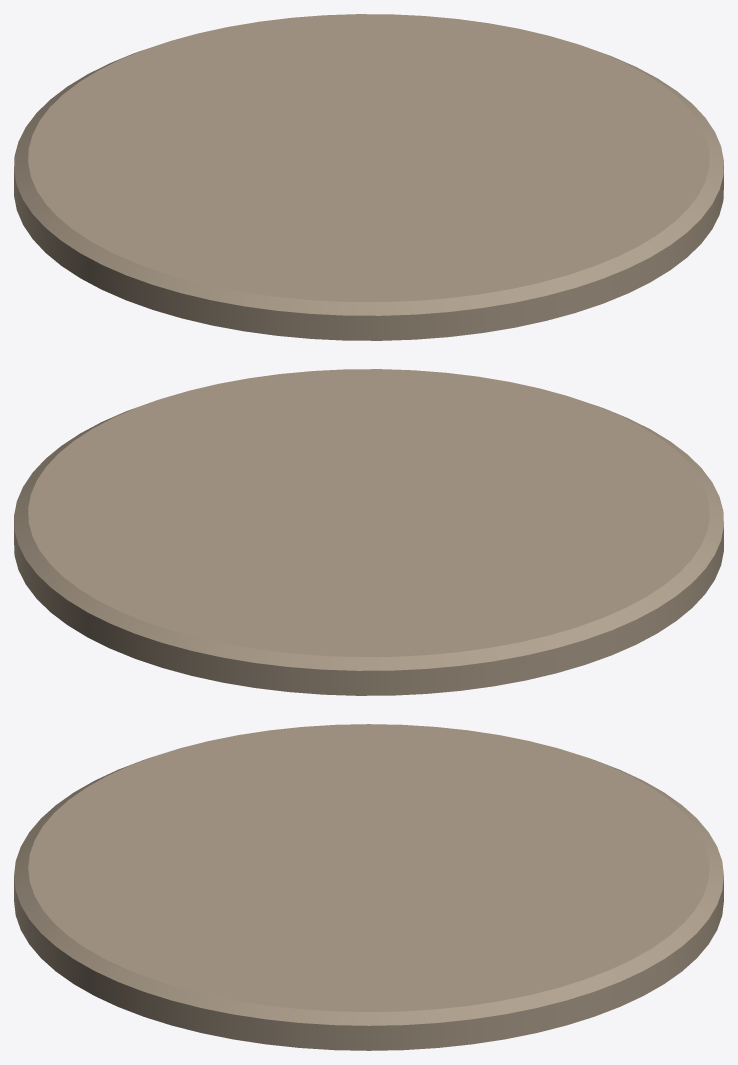
The picture shows the model from 3 angles, top to bottom: view 1: azimuth 30°, elevation 25°; view 2: azimuth 150°, elevation 25°; view 3: azimuth 270°, elevation 25°; orthographic projection.
Parts seen in each view (by area): view 1: dish_body; view 2: dish_body; view 3: dish_body.
Part boxes in pixels (x1=…): dish_body: x1=14, y1=14, x2=723, y2=340; dish_body: x1=14, y1=369, x2=723, y2=695; dish_body: x1=14, y1=724, x2=723, y2=1050.
Size of the model in its own units: 0.1 by 0.00648 by 0.1.
